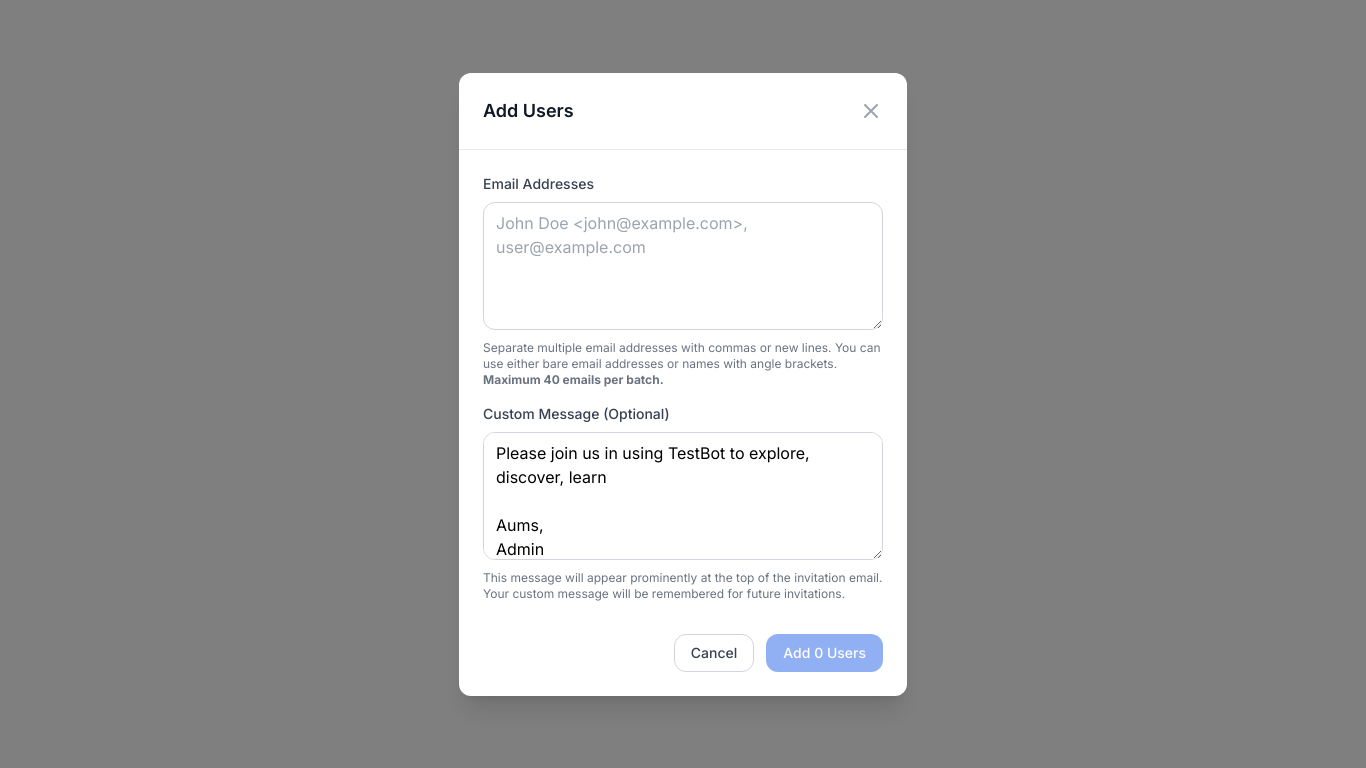
Test case: AddUsersModal › shows live validation feedback
The image size is (1366, 768).
Type "user1@example.com, invalid-email, user2@example.com" into the text box labelled "Email Addresses".
click(683, 266); type("user1@example.com, invalid-email, user2@example.com")  # box left=483, top=202, right=883, bottom=330
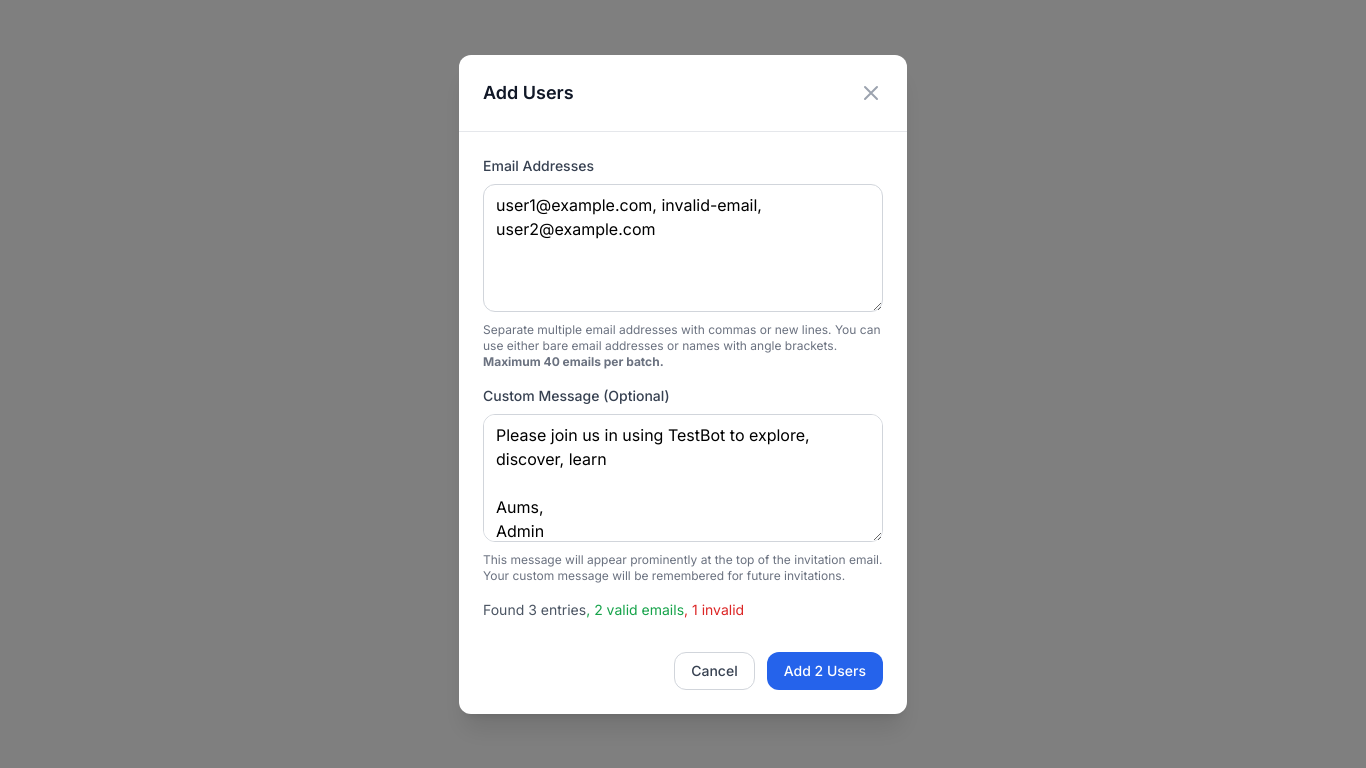
Check: the button "Add 2 Users" is shown, box left=767, top=652, right=883, bottom=690
Check: the text ", 2 valid emails" is shown, box left=586, top=600, right=684, bottom=618
Check: the text ", 1 invalid" is shown, box left=684, top=600, right=744, bottom=618
